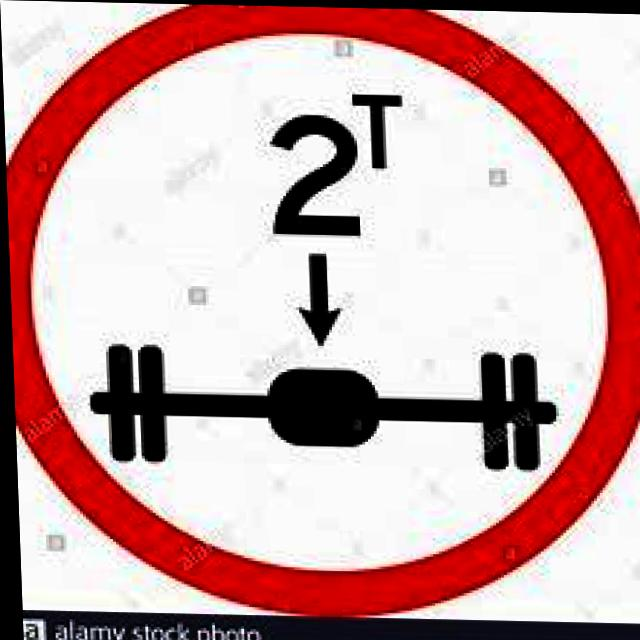AXLE_LOAD_LIMIT: (0, 0, 640, 621)
